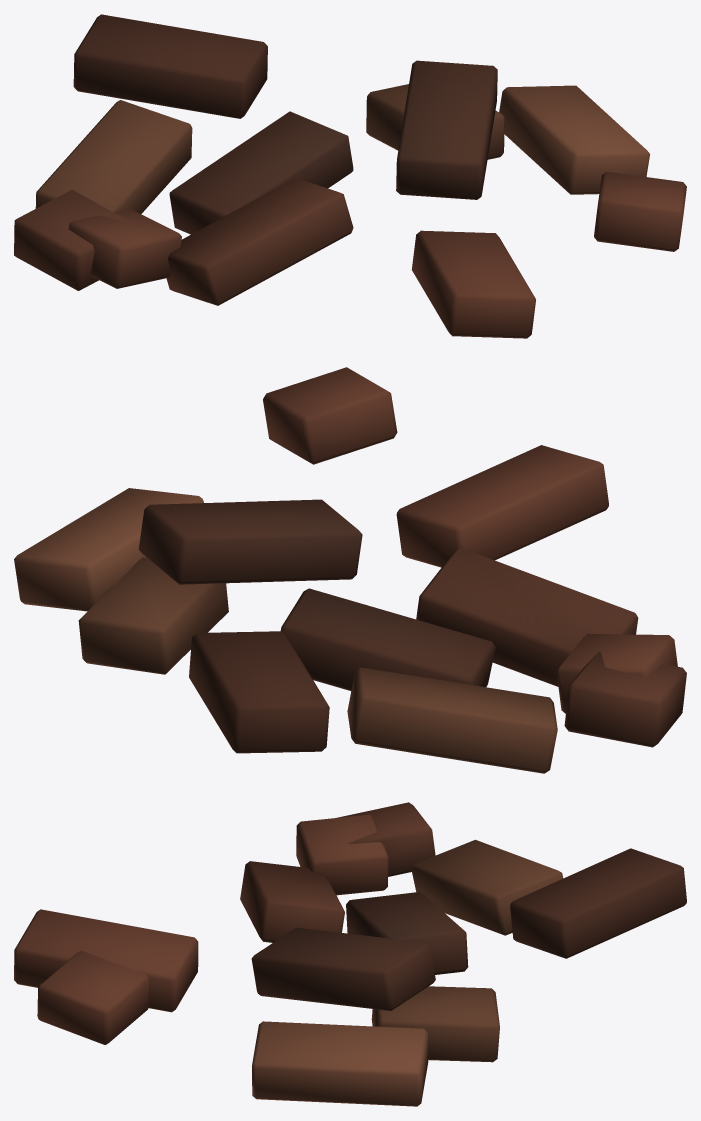
Rendered from ladrillos.glb.
3 views of the same model, one above another, from view 1: azimuth 30°, elevation 25°; view 2: azimuth 150°, elevation 25°; view 3: azimuth 270°, elevation 25° (orthographic). The views are drawn at different scales.
Parts seen in each view (by area): view 1: ladrillos.001; view 2: ladrillos.001; view 3: ladrillos.001.
Part boxes in pixels (x1,y1,x2,y2): ladrillos.001: (14,14,686,338); ladrillos.001: (14,367,686,773); ladrillos.001: (14,802,686,1106).
Bounding box in the file's own units: 0.9186 × 0.1769 × 0.9906.
